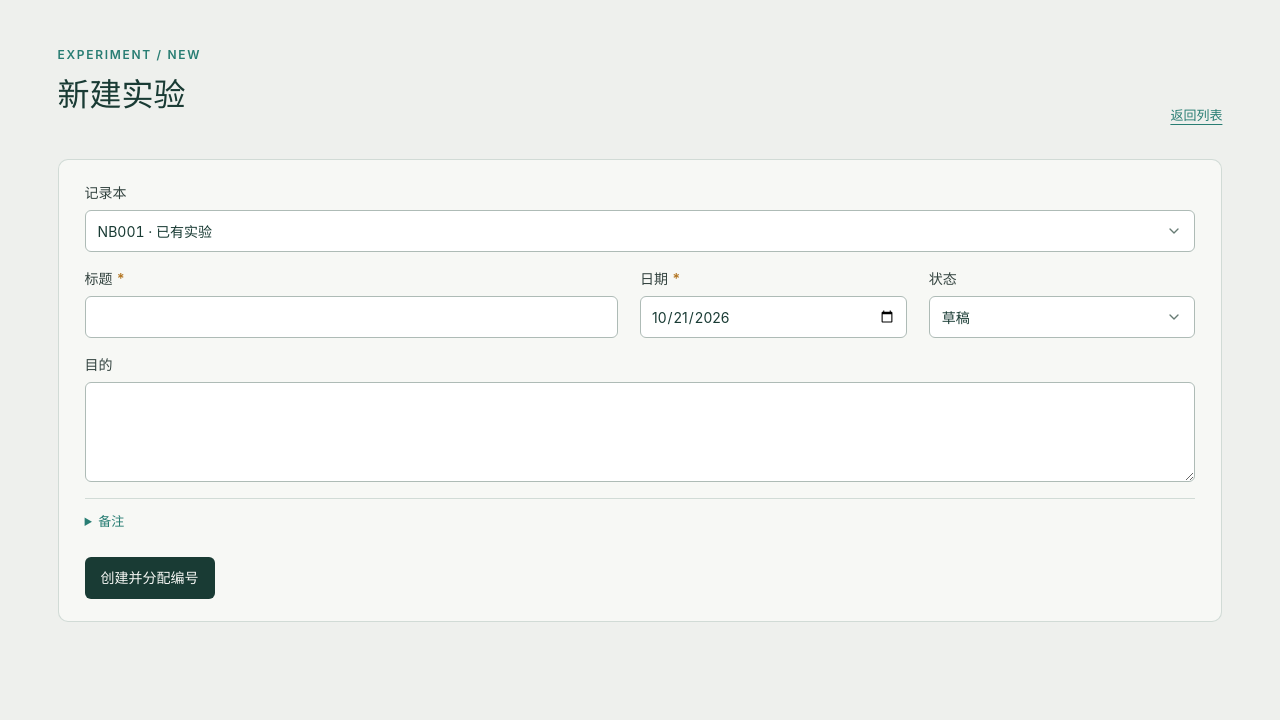
experiment editor › submits a record without a client generated code and displays the server code
Type "新的实验" into the field labelled "标题 *".
click(351, 317); type("新的实验")  # box [85,296,618,338]
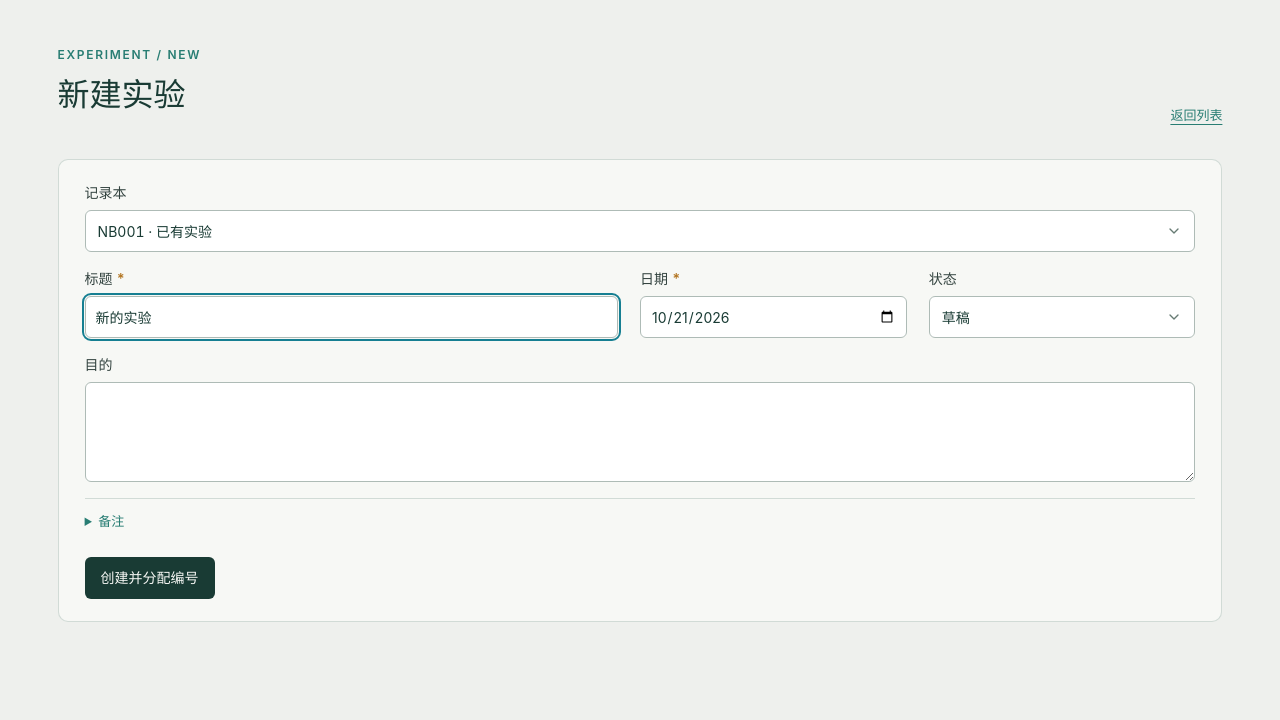
Click the button "创建并分配编号".
click(150, 578)  # box [85,557,215,599]
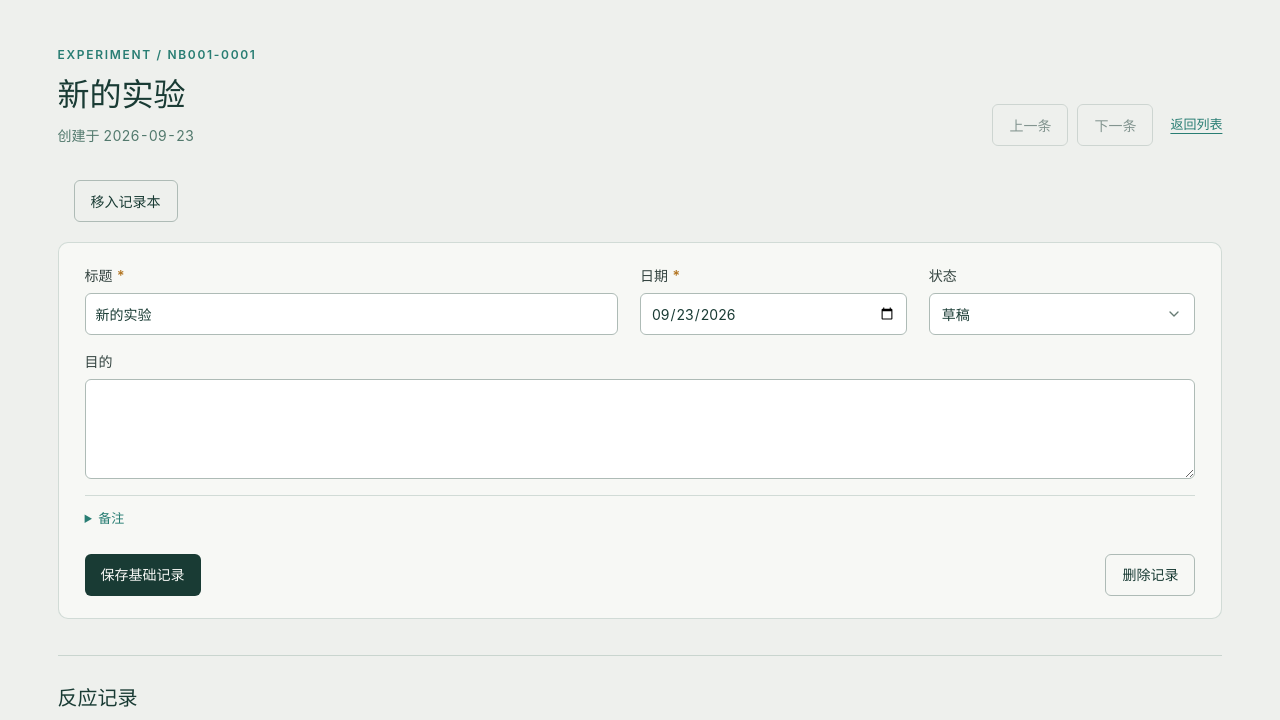
Now the text "EXPERIMENT / NB001-0001" is shown, box [58,46,257,64]
